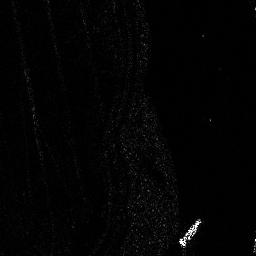ship: (177, 218, 201, 246)
